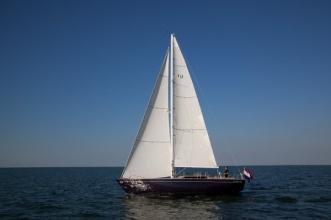fanchuan: (118, 32, 243, 192)
